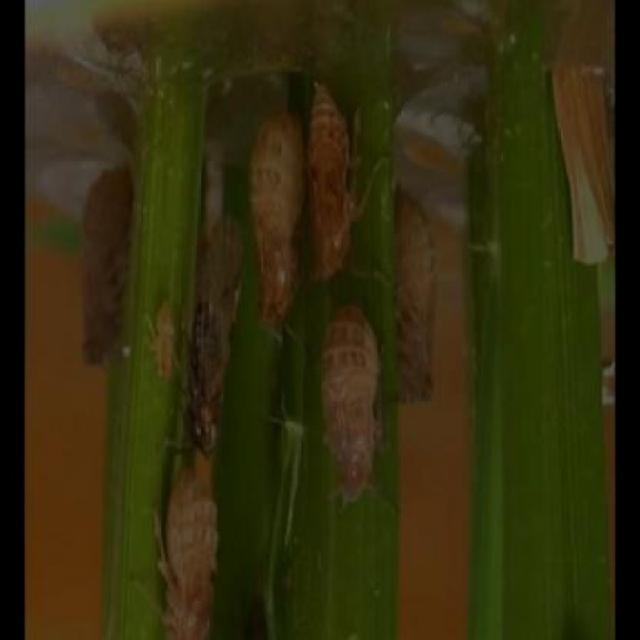brown-planthopper: (186, 209, 242, 454), (76, 160, 142, 366), (248, 105, 304, 327), (317, 309, 380, 497), (390, 182, 438, 406), (304, 79, 354, 288), (163, 464, 216, 640), (147, 293, 175, 379)
